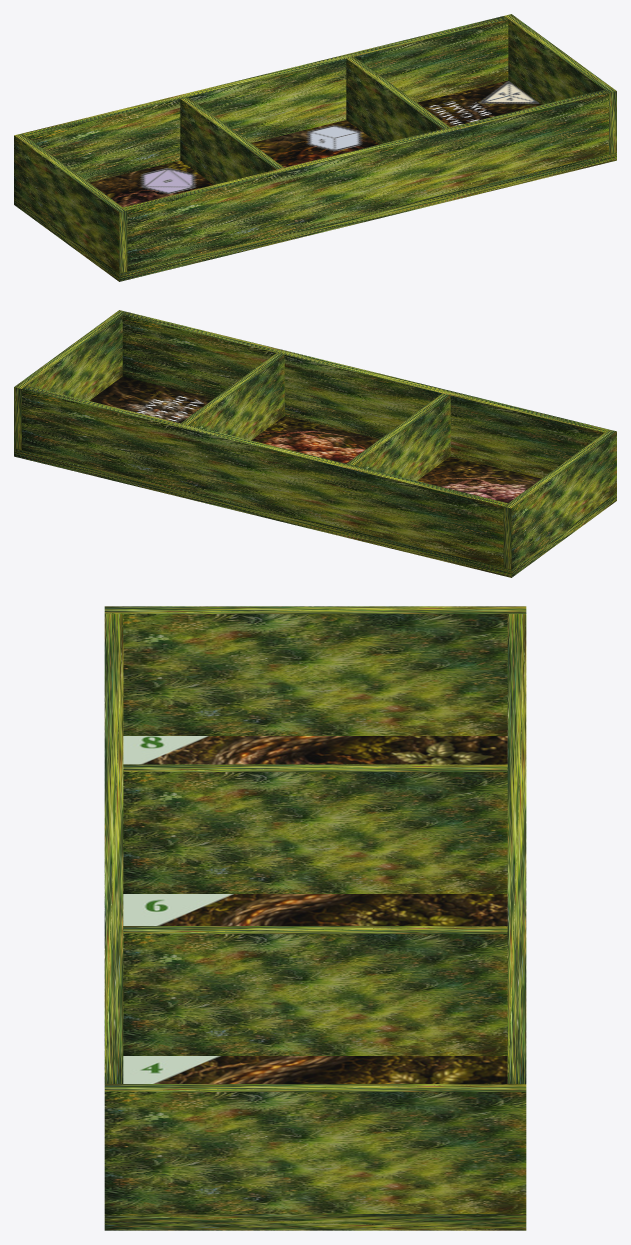
Rendered from Dice_Tray_low.obj.
3 views of the same model, one above another, from view 1: azimuth 30°, elevation 25°; view 2: azimuth 150°, elevation 25°; view 3: azimuth 270°, elevation 25° (orthographic). The views are drawn at different scales.
Parts seen in each view (by area): view 1: Leaf_And_Let_Die_Dice_Tray_low; view 2: Leaf_And_Let_Die_Dice_Tray_low; view 3: Leaf_And_Let_Die_Dice_Tray_low.
Part boxes in pixels (left/top/right/bottom): Leaf_And_Let_Die_Dice_Tray_low: left=14, top=14, right=616, bottom=281; Leaf_And_Let_Die_Dice_Tray_low: left=14, top=310, right=616, bottom=577; Leaf_And_Let_Die_Dice_Tray_low: left=104, top=606, right=526, bottom=1230.
Size of the model in its own units: 10.95 by 1.46 by 4.02.
1 material, 1 textured.
